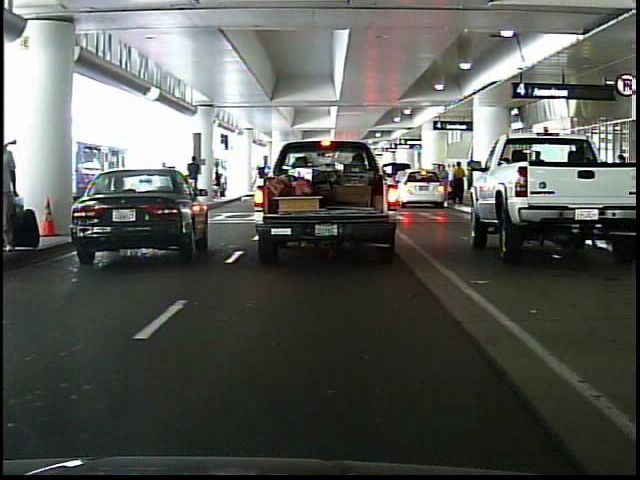person: (6, 130, 22, 250), (184, 154, 206, 209)
